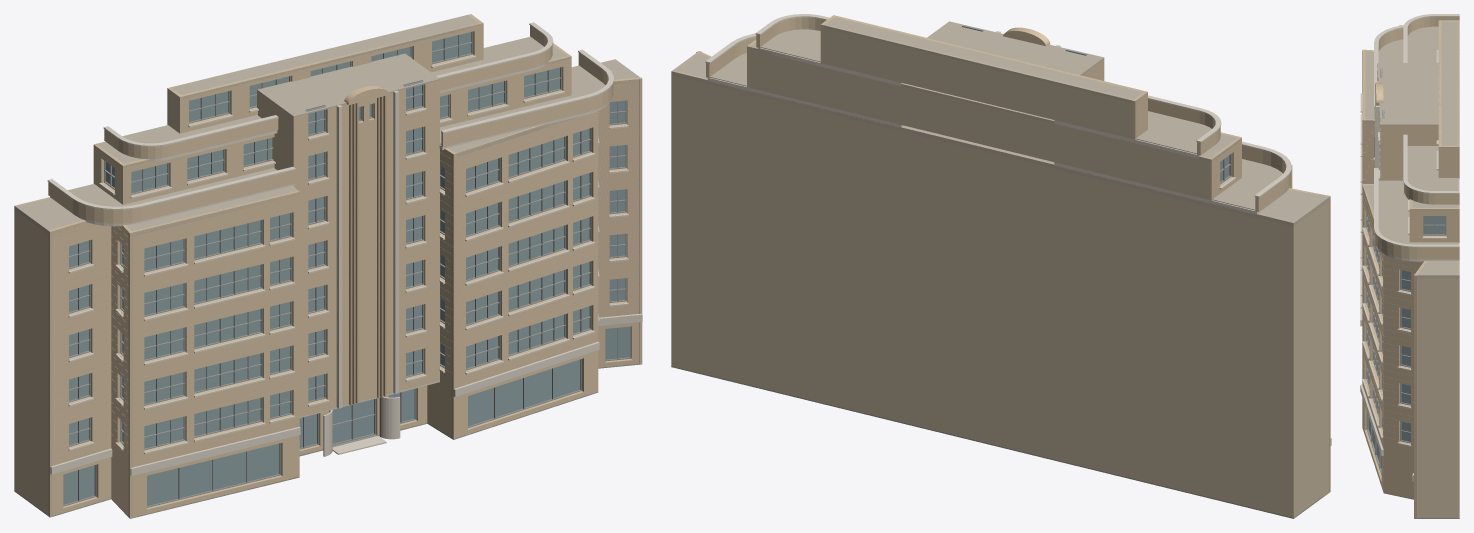
File: xuhui-hanray-mansions-lod.glb
3 views of the same model, side by side, from view 1: azimuth 30°, elevation 25°; view 2: azimuth 150°, elevation 25°; view 3: azimuth 270°, elevation 25° (orthographic). The views are drawn at different scales.
Parts seen in each view (by area): view 1: 亨利公寓（淮中大楼）淮海中路门面与弧形露台; view 2: 亨利公寓（淮中大楼）淮海中路门面与弧形露台; view 3: 亨利公寓（淮中大楼）淮海中路门面与弧形露台.
Part boxes in pixels (bbox=[...]): 亨利公寓（淮中大楼）淮海中路门面与弧形露台: bbox=[14, 14, 642, 518]; 亨利公寓（淮中大楼）淮海中路门面与弧形露台: bbox=[671, 14, 1331, 518]; 亨利公寓（淮中大楼）淮海中路门面与弧形露台: bbox=[1360, 14, 1459, 518].
Bounding box in the file's own units: 44.57 × 25.92 × 7.49.
